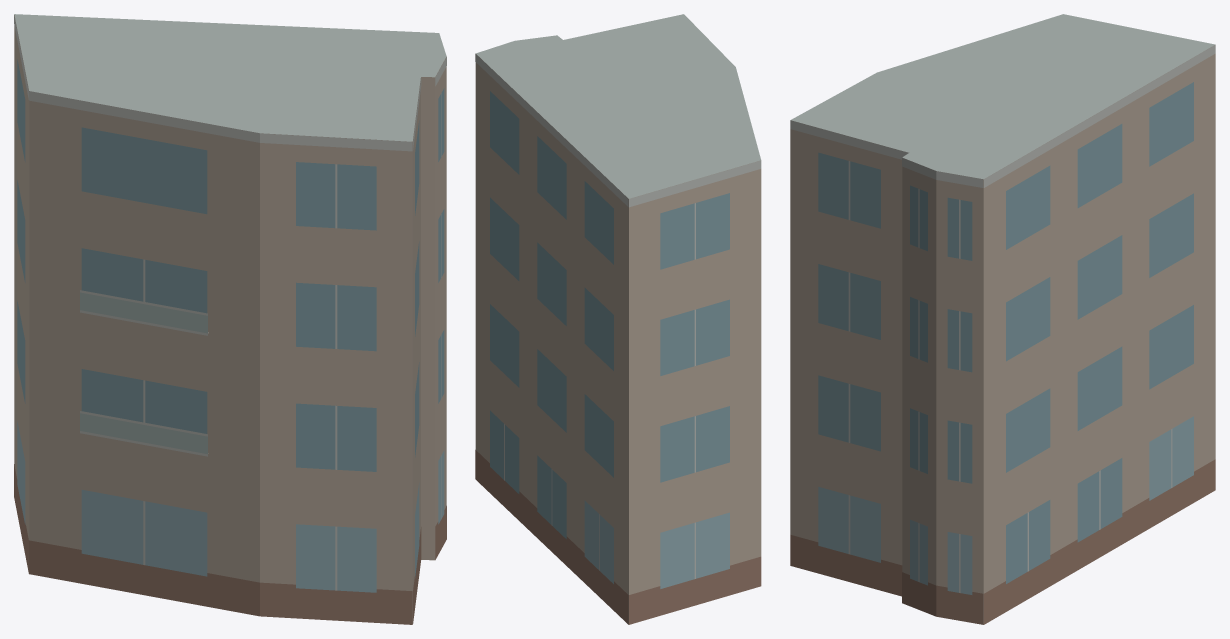
Rendered from survey-upis-32482109.glb.
3 renders of one model, left to right at view 1: azimuth 30°, elevation 25°; view 2: azimuth 150°, elevation 25°; view 3: azimuth 270°, elevation 25°, orthographic. The views are drawn at different scales.
Visible parts, largest first — view 1: survey-upis-32482109.tmp; view 2: survey-upis-32482109.tmp; view 3: survey-upis-32482109.tmp.
Boxes of the visible parts, x1,y1,x2,y2 form: survey-upis-32482109.tmp: (14,14,446,624); survey-upis-32482109.tmp: (475,14,761,624); survey-upis-32482109.tmp: (790,14,1215,624).
Bounding box in the file's own units: 9.71 × 12.2 × 10.56.
